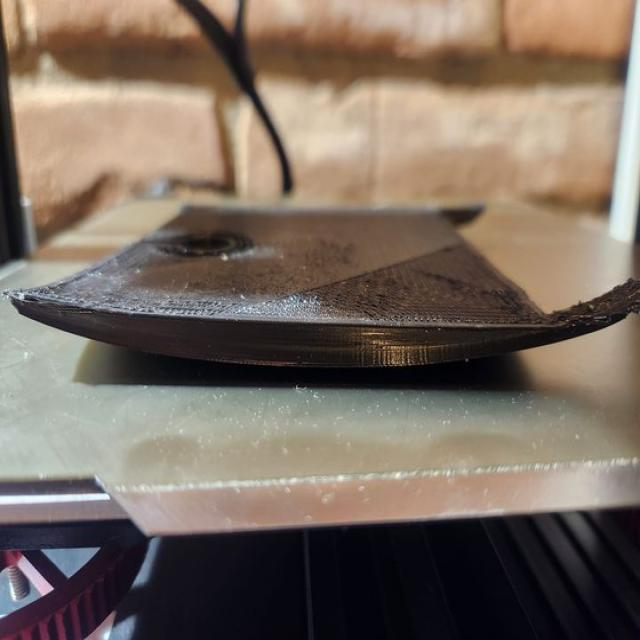Warping: (9, 298, 168, 380), (466, 313, 578, 387)
